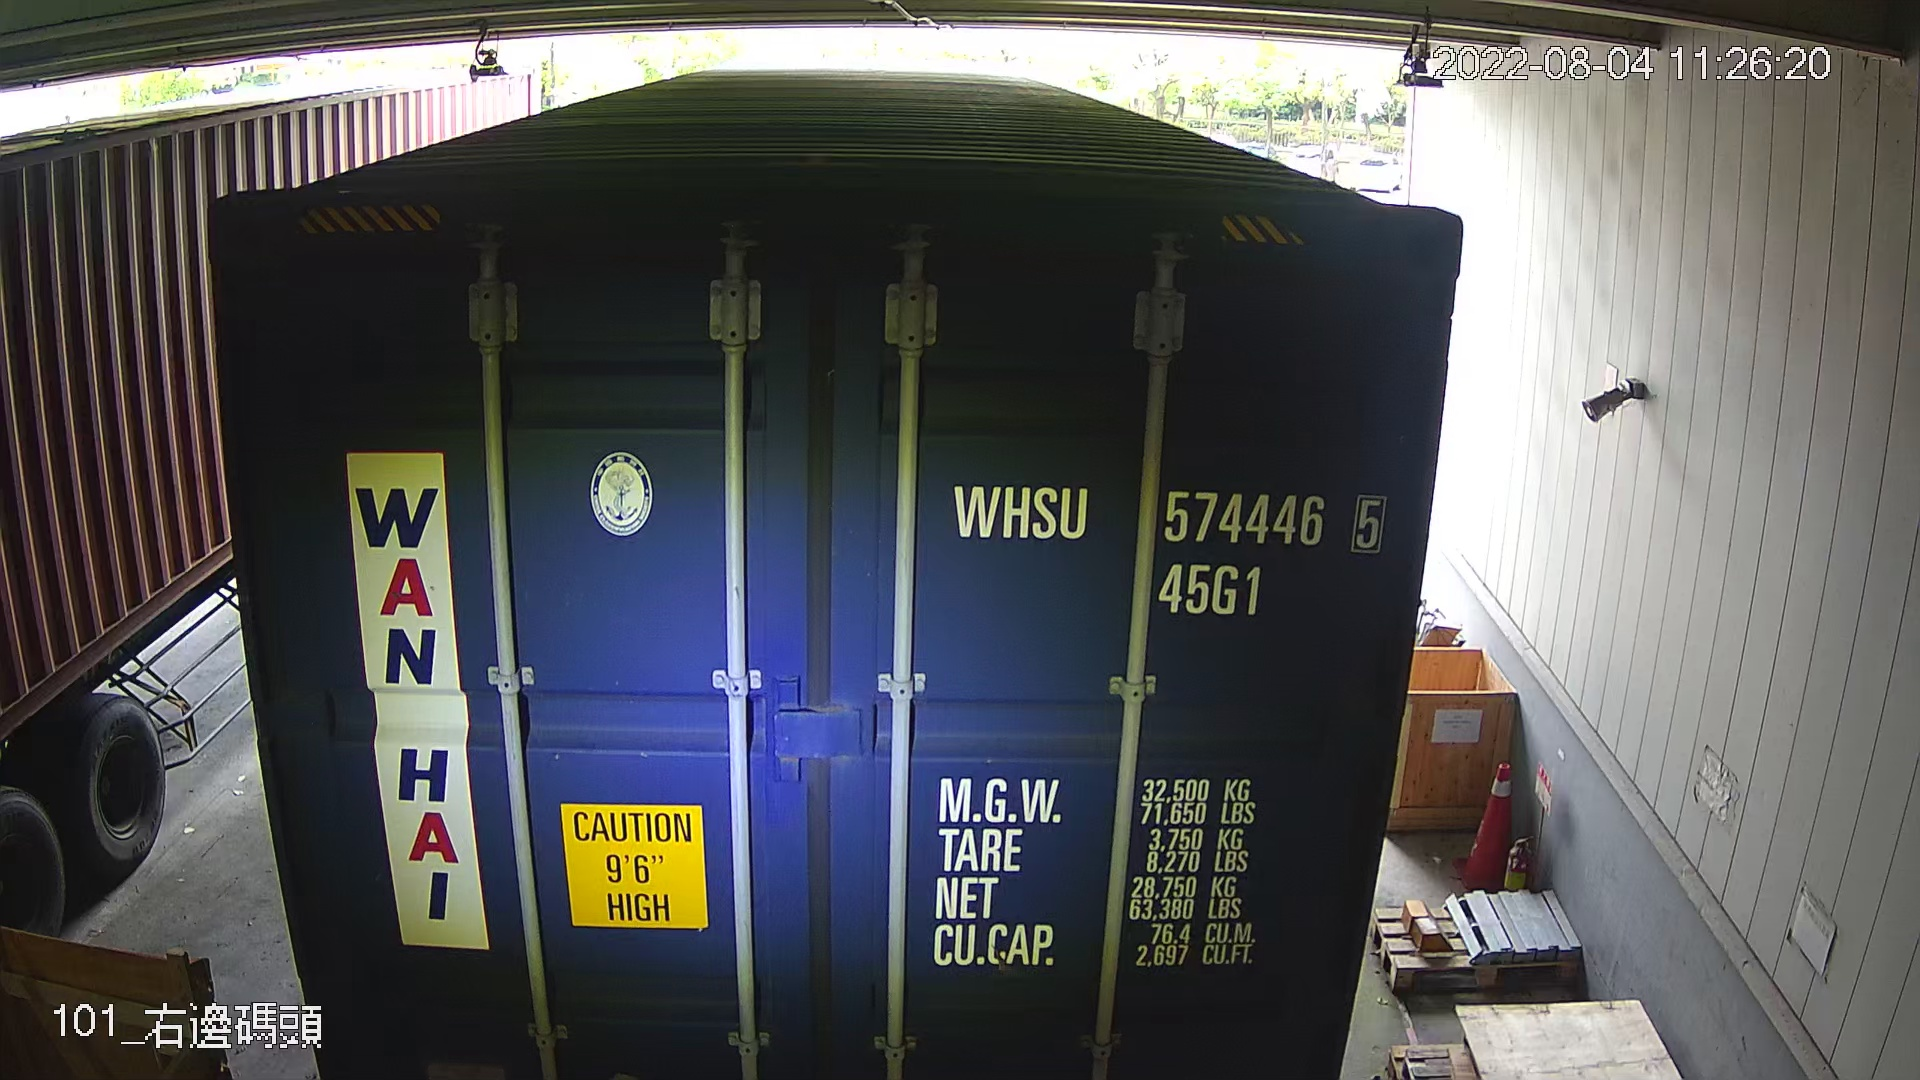container: (935, 465, 1396, 629)
